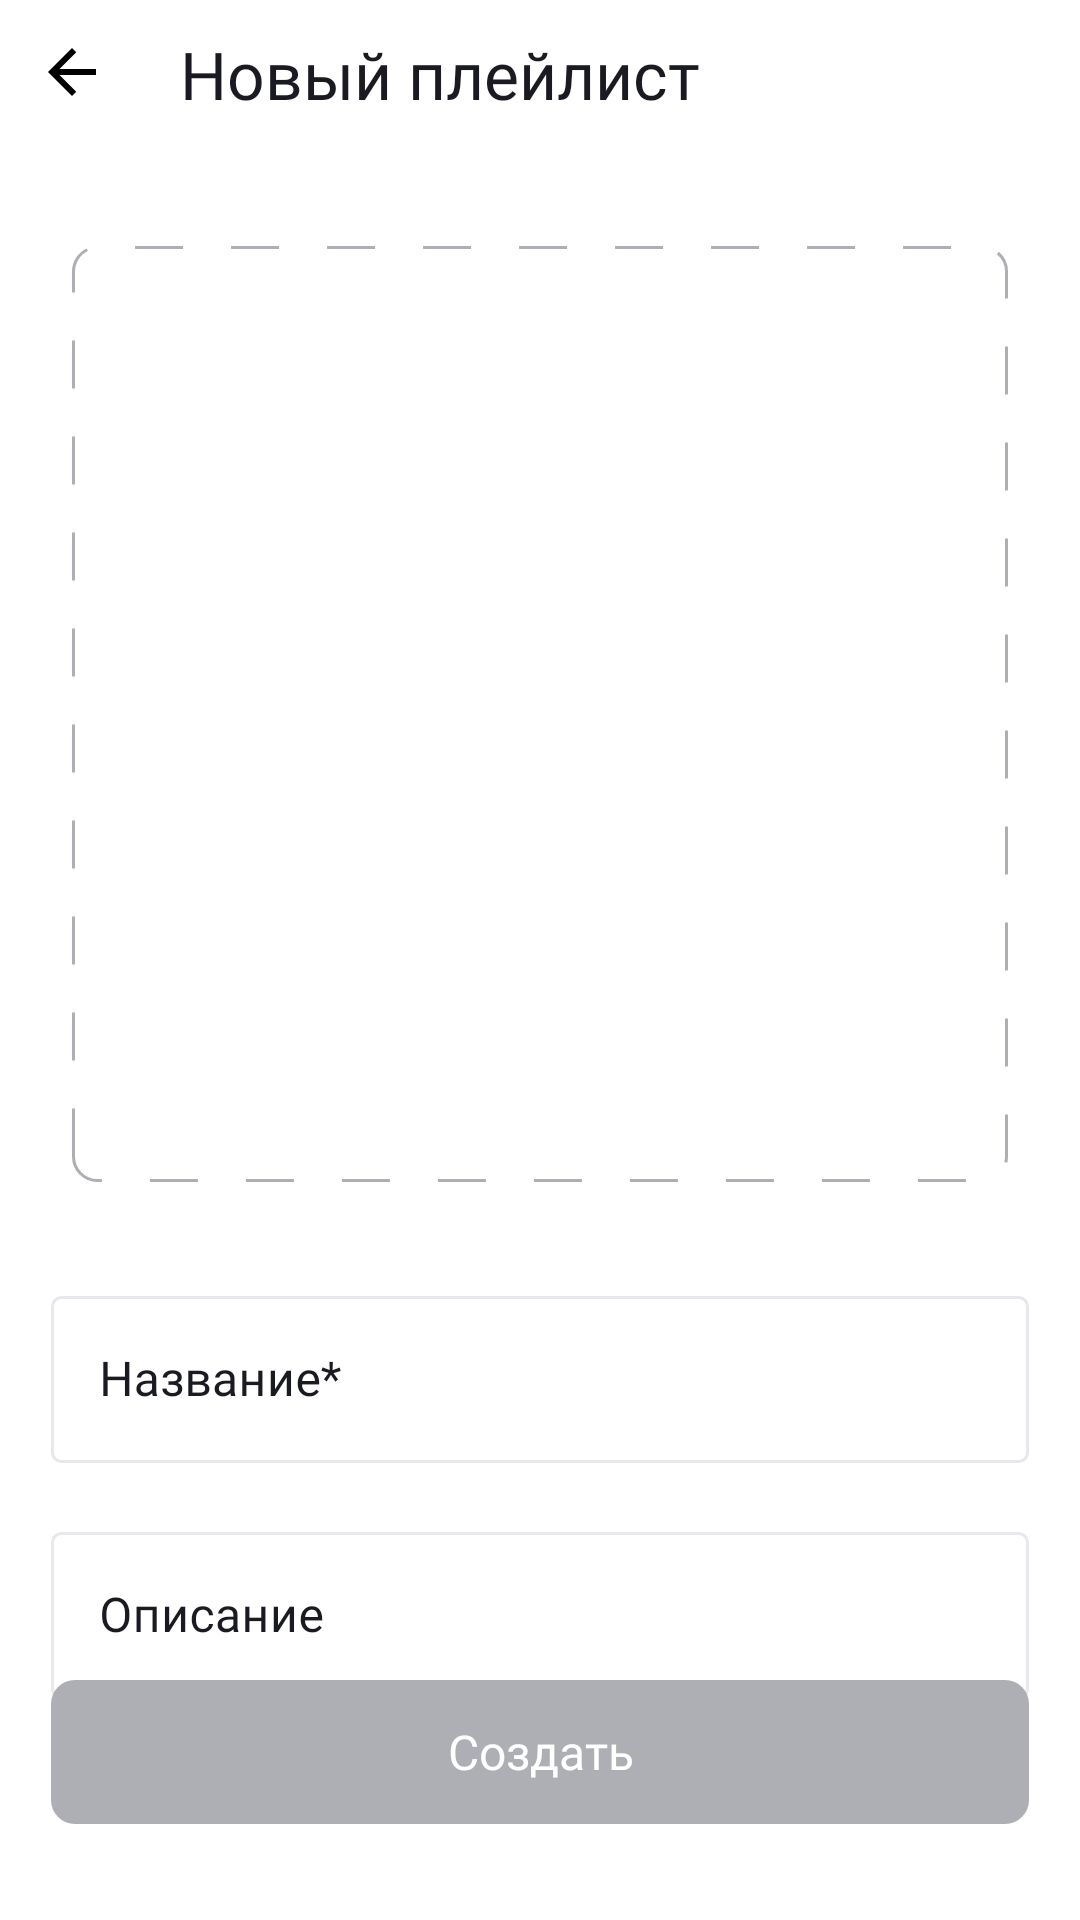

Named icons in this screenshot (1080x1920) and their bounding boxes, box=[x1, y1, x2, y2]:
back: box=[48, 48, 96, 96]
